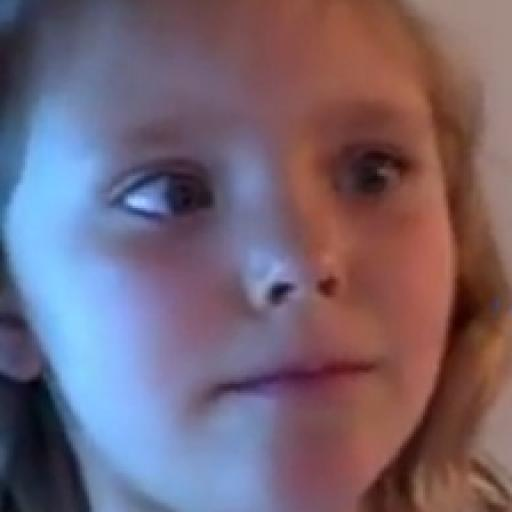Autism: (0, 0, 443, 512)
